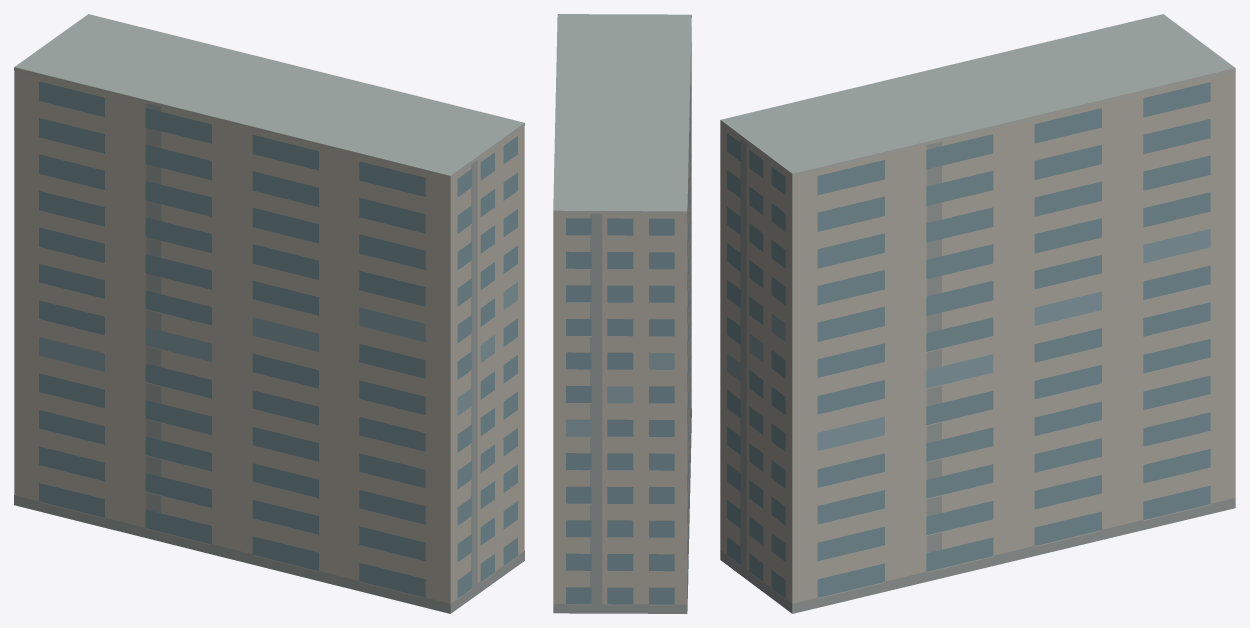
The model's file is residential-710b057e-9fa0-4317-a628-030d88eb4a78.glb.
The picture shows the model from 3 angles, left to right: view 1: azimuth 30°, elevation 25°; view 2: azimuth 150°, elevation 25°; view 3: azimuth 270°, elevation 25°; orthographic projection. The views are drawn at different scales.
Parts seen in each view (by area): view 1: residential-710b057e-9fa0-4317-a628-030d88eb4a78.tmp; view 2: residential-710b057e-9fa0-4317-a628-030d88eb4a78.tmp; view 3: residential-710b057e-9fa0-4317-a628-030d88eb4a78.tmp.
Part boxes in pixels (x1,y1,x2,y2): residential-710b057e-9fa0-4317-a628-030d88eb4a78.tmp: (14,14,524,613); residential-710b057e-9fa0-4317-a628-030d88eb4a78.tmp: (553,14,691,613); residential-710b057e-9fa0-4317-a628-030d88eb4a78.tmp: (720,14,1235,613).
Bounding box in the file's own units: 25.71 × 33 × 35.02.
